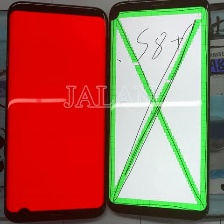phone: (103, 0, 213, 224), (3, 0, 110, 224)
